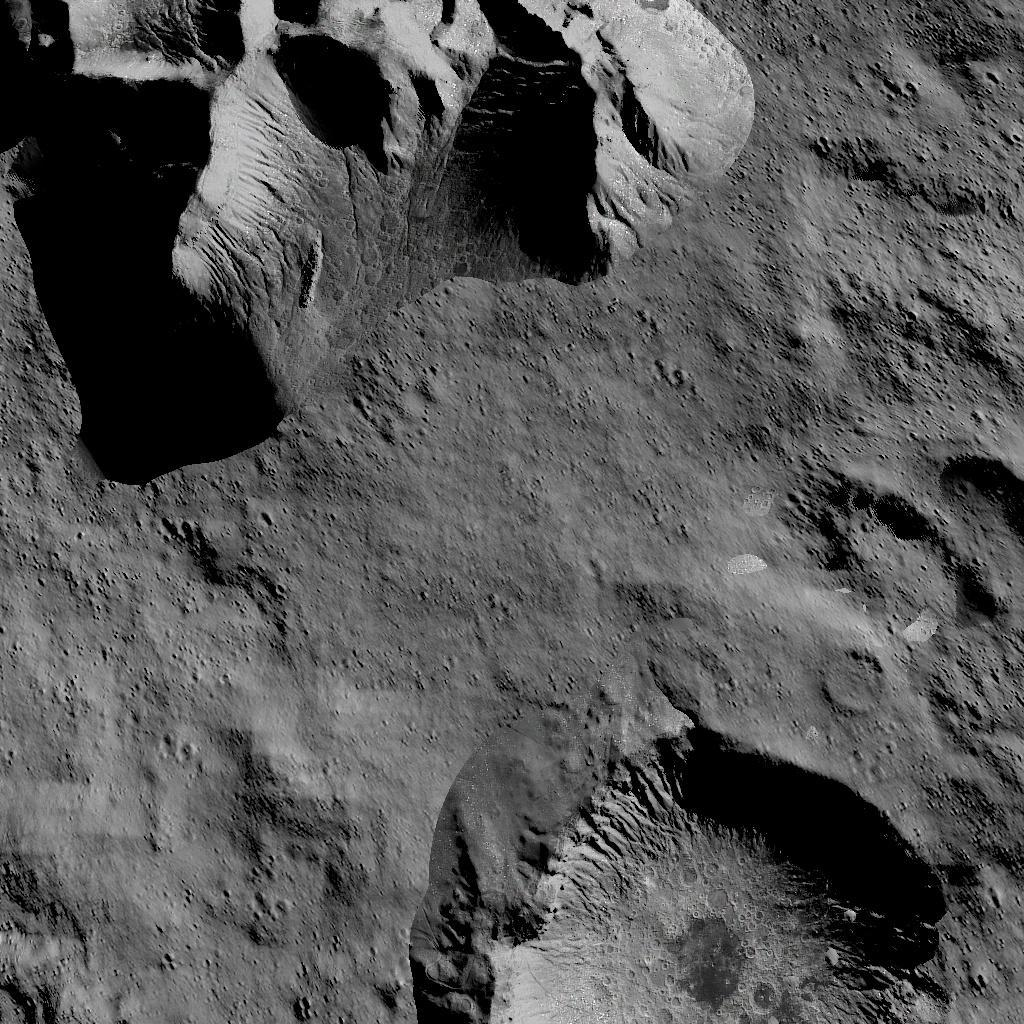Boulders: (0, 0, 755, 480)
Crater: (427, 688, 953, 1024), (811, 426, 1024, 642)
Plan surface: (7, 518, 387, 940), (788, 0, 1022, 413), (421, 502, 777, 658)
